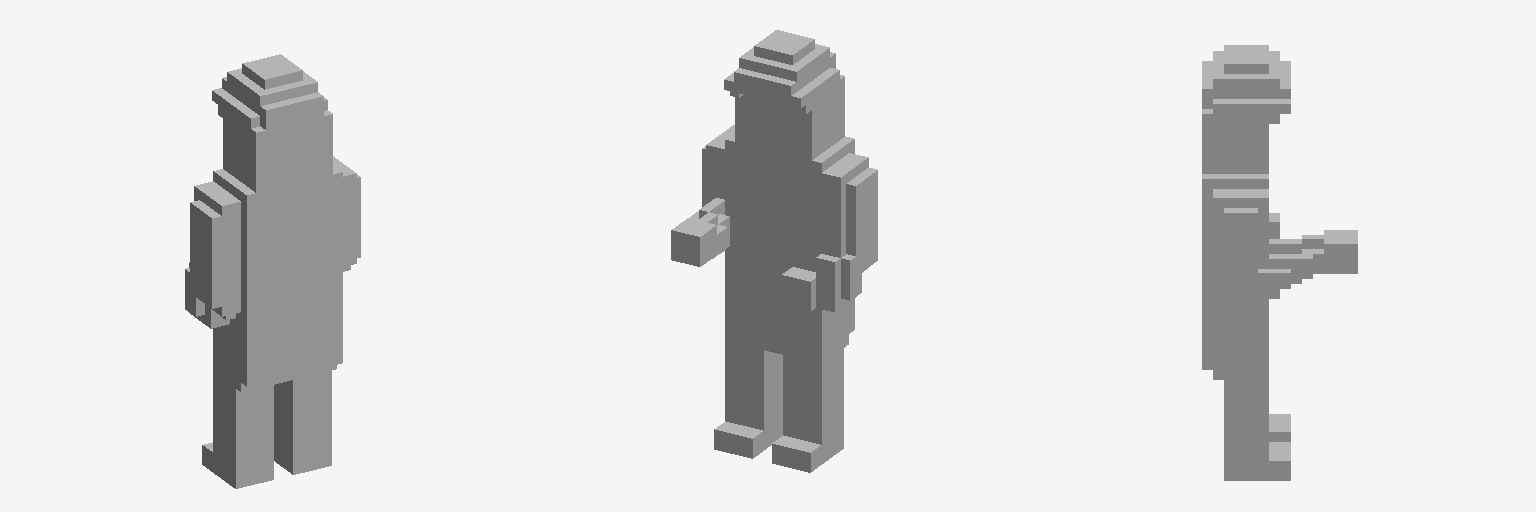
File: player-2.obj
3 views of the same model, side by side, from view 1: azimuth 30°, elevation 25°; view 2: azimuth 150°, elevation 25°; view 3: azimuth 270°, elevation 25° (orthographic).
Visible parts, largest first — view 1: object 1; view 2: object 1; view 3: object 1.
Part boxes in pixels (bbox=[...]): object 1: bbox=[185, 54, 360, 488]; object 1: bbox=[671, 30, 877, 472]; object 1: bbox=[1202, 45, 1357, 480].
Size of the model in its own units: 1.6 by 4 by 1.4.